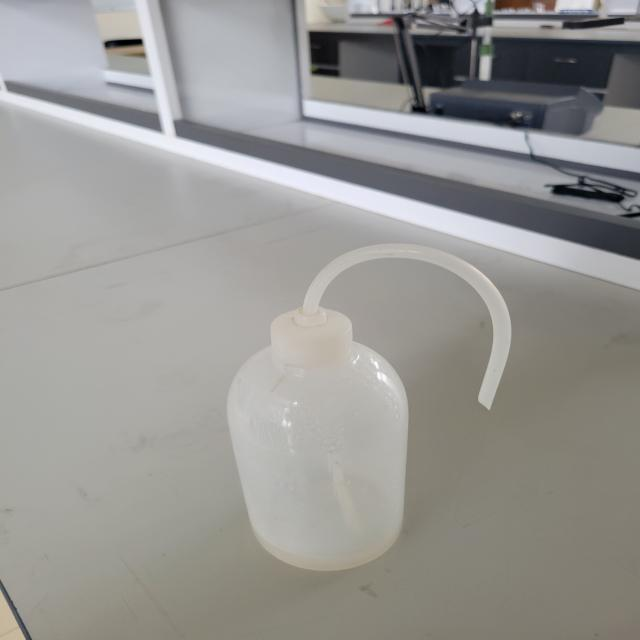Wash_Bottle: (182, 205, 509, 600)
